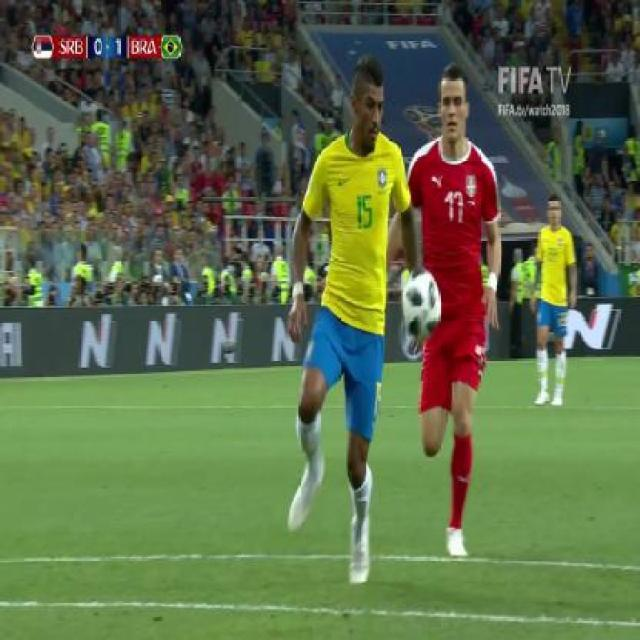ball: (398, 263, 443, 342)
player: (262, 35, 433, 600), (389, 54, 514, 574), (524, 191, 580, 410)
